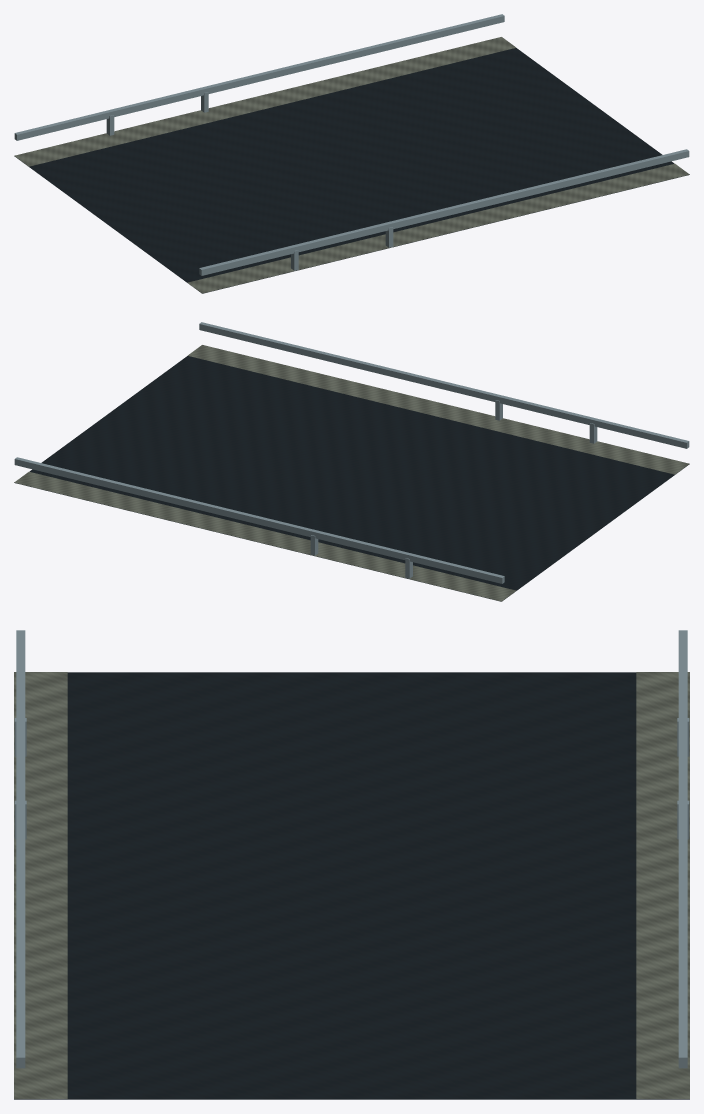
The model's file is road_highway_regional_16m_guardrail_ShadowProxy.glb.
3 renders of one model, top to bottom at view 1: azimuth 30°, elevation 25°; view 2: azimuth 150°, elevation 25°; view 3: azimuth 270°, elevation 25°, orthographic. The views are drawn at different scales.
Parts seen in each view (by area): view 1: road_highway_regional_16m_guardrail__surface.003, road_highway_regional_16m_guardrail__shoulders.003, road_highway_regional_16m_guardrail__guardrail.003; view 2: road_highway_regional_16m_guardrail__surface.003, road_highway_regional_16m_guardrail__shoulders.003, road_highway_regional_16m_guardrail__guardrail.003; view 3: road_highway_regional_16m_guardrail__surface.003, road_highway_regional_16m_guardrail__shoulders.003, road_highway_regional_16m_guardrail__guardrail.003.
Part boxes in pixels (box(x1,y1,x2,y2)): road_highway_regional_16m_guardrail__surface.003: box(14, 48, 689, 293); road_highway_regional_16m_guardrail__shoulders.003: box(14, 37, 689, 293); road_highway_regional_16m_guardrail__guardrail.003: box(14, 14, 689, 275); road_highway_regional_16m_guardrail__surface.003: box(14, 356, 689, 601); road_highway_regional_16m_guardrail__shoulders.003: box(14, 345, 689, 601); road_highway_regional_16m_guardrail__guardrail.003: box(14, 322, 689, 583); road_highway_regional_16m_guardrail__surface.003: box(14, 672, 689, 1099); road_highway_regional_16m_guardrail__shoulders.003: box(14, 672, 689, 1098); road_highway_regional_16m_guardrail__guardrail.003: box(14, 630, 689, 1068).
Size of the model in its own units: 16 by 0.735 by 10.7.
Materials: 3 (2 with a texture image).
